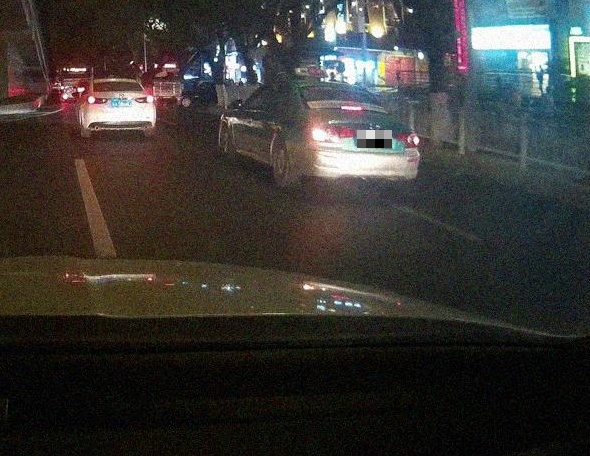L_light: (308, 125, 356, 142), (87, 96, 108, 104)
R_light: (393, 131, 419, 147), (135, 97, 155, 104)
T_light: (340, 105, 362, 111), (113, 81, 122, 83)
night-left: (295, 80, 420, 189)
night-no: (84, 78, 156, 138)
plate_1: (357, 130, 392, 148)
